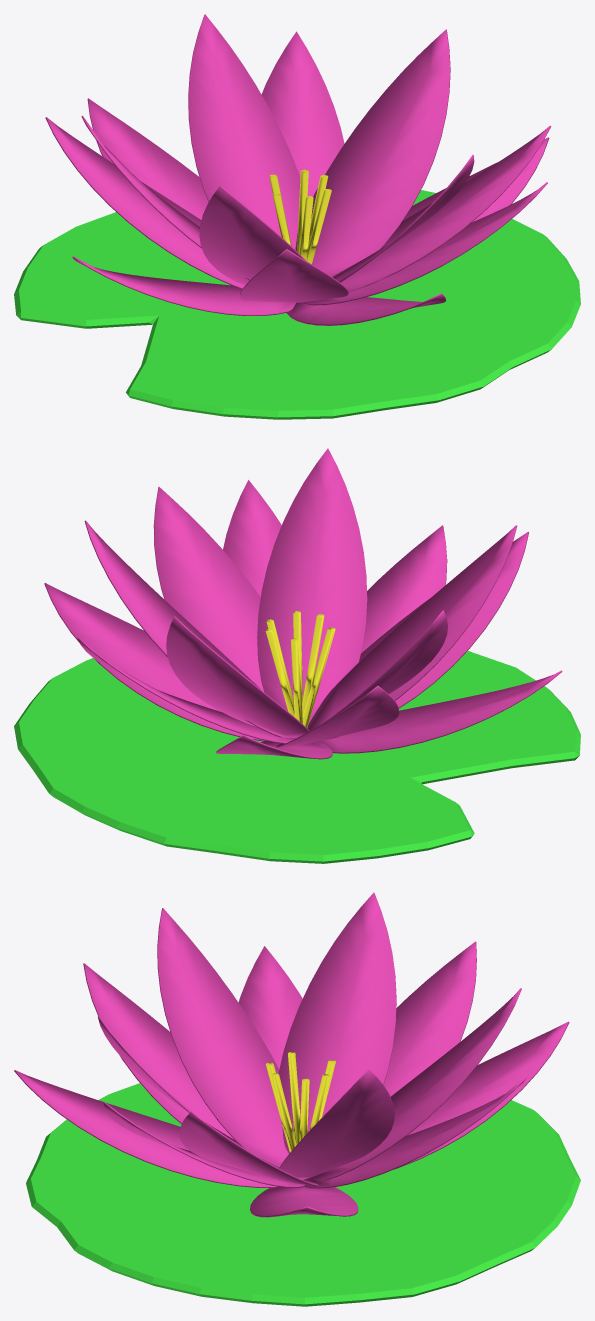
The model's file is LotusFlower.fbx.
3 views of the same model, one above another, from view 1: azimuth 30°, elevation 25°; view 2: azimuth 150°, elevation 25°; view 3: azimuth 270°, elevation 25° (orthographic).
Parts seen in each view (by area): view 1: Pad, Circle.009, Circle.010, Circle.006, Circle.013, Circle.005, Circle.012, Circle.003, Circle.004, Circle.007, Circle.008, Circle.001 (+6 smaller); view 2: Pad, Circle.014, Circle.013, Circle.012, Circle.002, Circle.010, Circle.004, Circle.001, Circle.009, Circle.007, Circle.008, Circle.005 (+7 smaller); view 3: Pad, Circle.012, Leafs, Circle.005, Circle.008, Circle.001, Circle.009, Circle.010, Circle.003, Circle.004, Circle.006, Circle.013 (+5 smaller).
Boxes of the visible parts, <box> form: Pad: <box>14,190,580,419</box>; Circle.009: <box>295,29,450,276</box>; Circle.010: <box>188,14,300,249</box>; Circle.006: <box>261,31,344,196</box>; Circle.013: <box>340,125,551,292</box>; Circle.005: <box>45,117,244,289</box>; Circle.012: <box>199,185,305,285</box>; Circle.003: <box>87,98,208,219</box>; Circle.004: <box>72,256,295,315</box>; Circle.007: <box>303,182,547,305</box>; Circle.008: <box>240,249,348,302</box>; Circle.001: <box>286,293,445,325</box>; Pad: <box>14,651,580,863</box>; Circle.014: <box>257,448,367,723</box>; Circle.013: <box>153,487,263,691</box>; Circle.012: <box>307,525,517,730</box>; Circle.002: <box>44,583,266,741</box>; Circle.010: <box>166,616,309,738</box>; Circle.004: <box>317,670,562,753</box>; Circle.001: <box>361,525,447,653</box>; Circle.009: <box>84,520,292,737</box>; Circle.007: <box>223,480,281,596</box>; Circle.008: <box>327,532,528,739</box>; Circle.005: <box>276,685,399,747</box>; Pad: <box>26,1083,580,1306</box>; Circle.012: <box>157,908,288,1167</box>; Leafs: <box>278,892,396,1153</box>; Circle.005: <box>383,941,476,1096</box>; Circle.008: <box>83,963,233,1139</box>; Circle.001: <box>14,1070,276,1187</box>; Circle.009: <box>277,1069,394,1181</box>; Circle.010: <box>305,988,521,1180</box>; Circle.003: <box>394,1021,569,1169</box>; Circle.004: <box>238,946,302,1069</box>; Circle.006: <box>304,1076,526,1188</box>; Circle.013: <box>179,1111,318,1186</box>.
Size of the model in its own units: 413 by 164 by 407.
